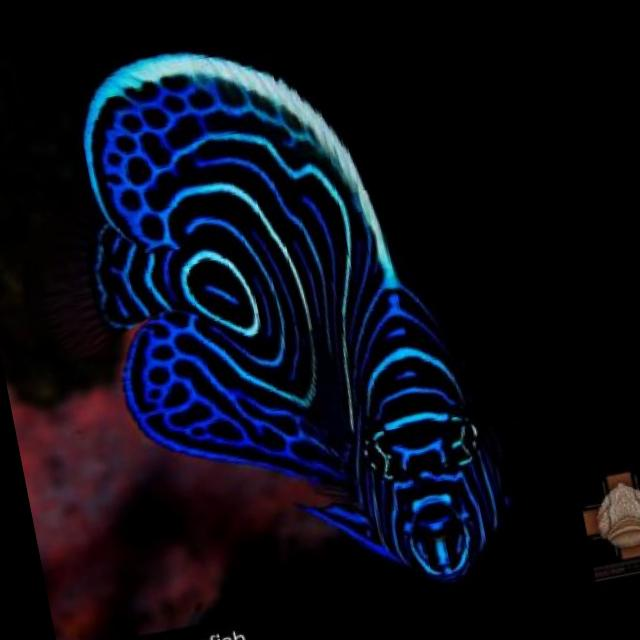AngelFish: (61, 10, 512, 630)
